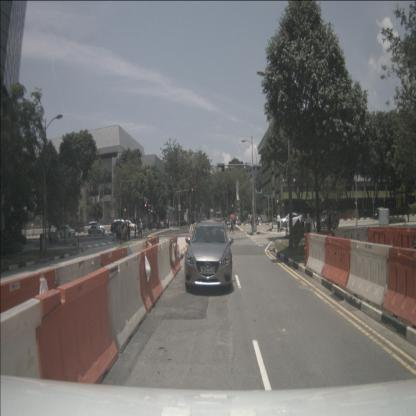barrier: (36, 266, 119, 416), (0, 297, 43, 415), (0, 266, 56, 356), (104, 251, 147, 354), (345, 239, 393, 309), (54, 252, 101, 313), (382, 246, 416, 330), (321, 236, 353, 296), (139, 244, 164, 314), (100, 246, 128, 298), (335, 226, 368, 263), (367, 226, 393, 270), (306, 232, 329, 276), (392, 227, 416, 269), (156, 239, 174, 292), (127, 240, 146, 276), (168, 236, 182, 278), (146, 237, 160, 263)
cone: (176, 244, 182, 269), (186, 234, 189, 250), (190, 228, 193, 240)
